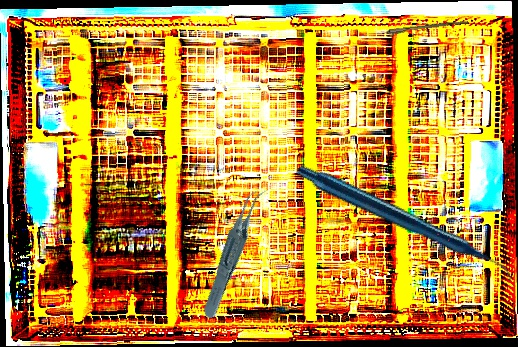Handpiece: (294, 103, 514, 347)
Surgical Spoon: (360, 18, 468, 39)
Tissue Forceps: (177, 183, 293, 322)
